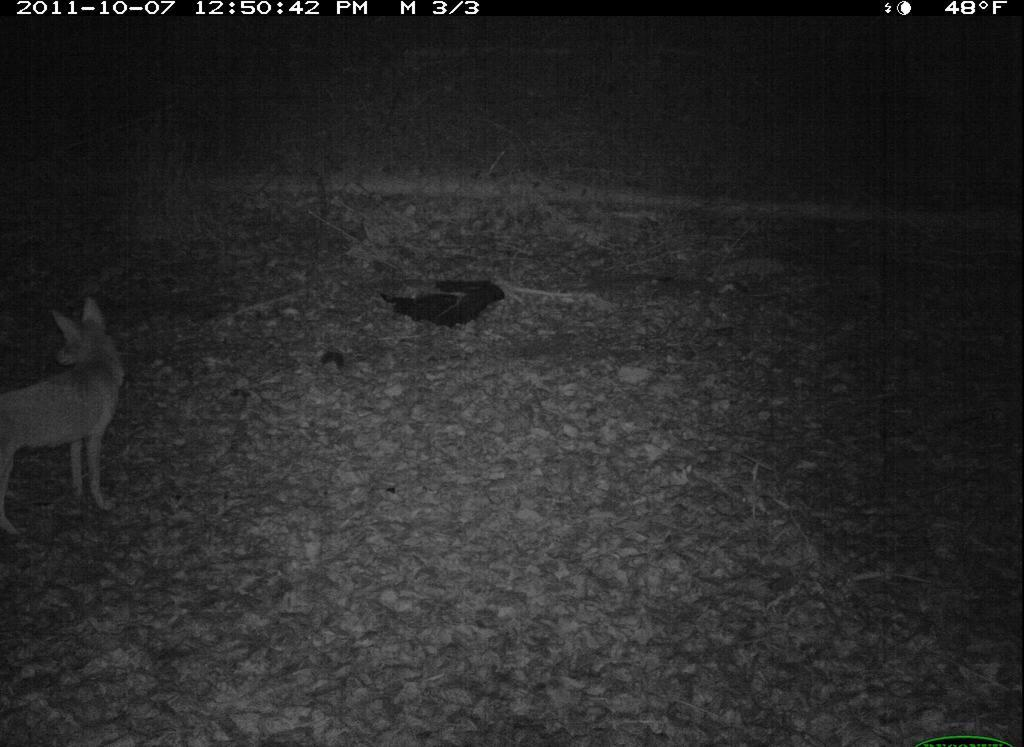coyote: (7, 291, 134, 550)
